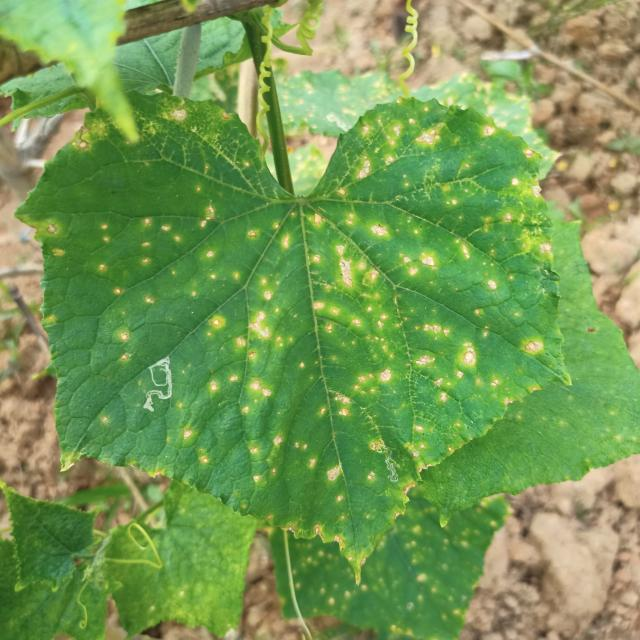disease_cucumber: (77, 107, 542, 531)
